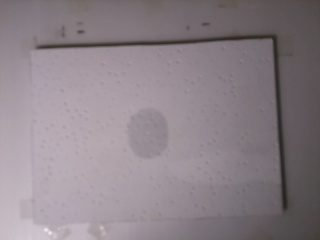Water_detected: (128, 113, 167, 164)
